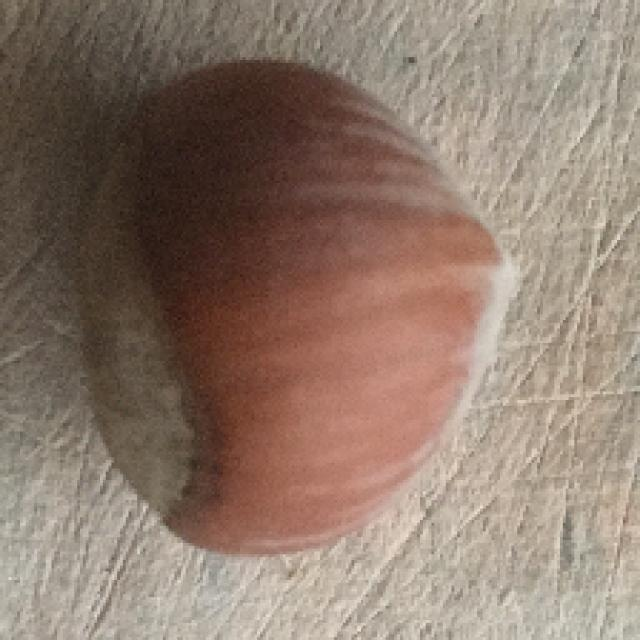qualityHazelnut: (73, 54, 523, 559)
